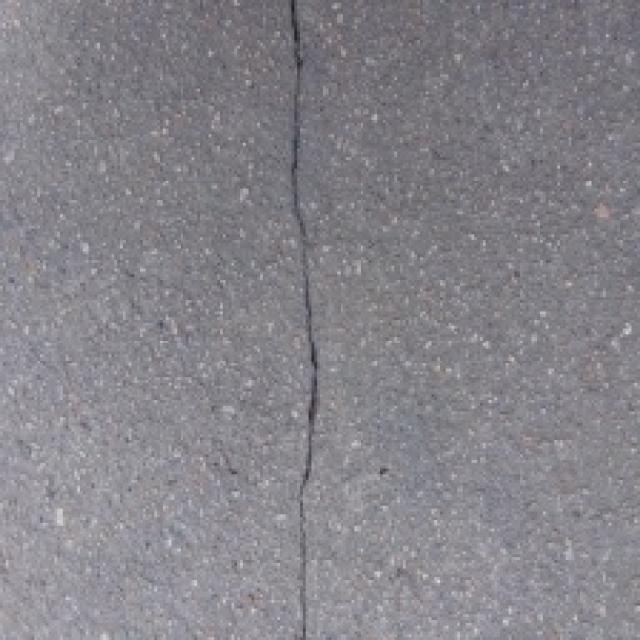Crack: (244, 0, 350, 640)
